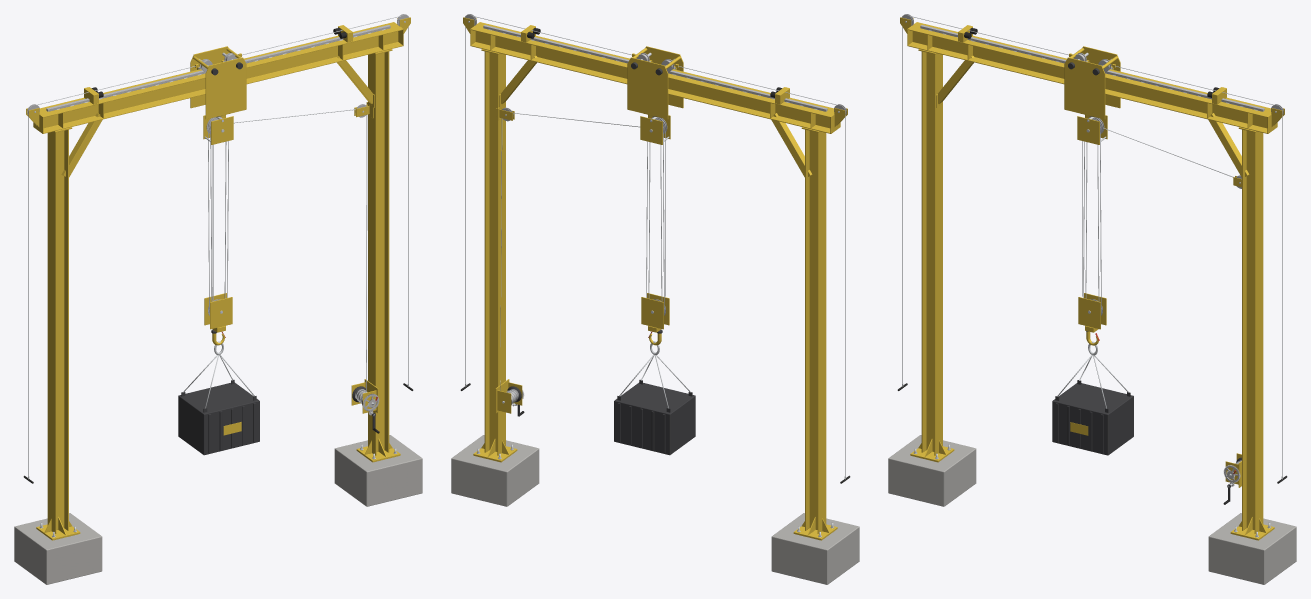
File: portique_reel.glb
3 views of the same model, side by side, from view 1: azimuth 30°, elevation 25°; view 2: azimuth 150°, elevation 25°; view 3: azimuth 330°, elevation 25° (orthographic).
Visible parts, largest first — view 1: R_Poteau_G, R_Poteau_D, R_Poutre, R_Massif_D, R_Massif_G, R_Caisse, R_Chariot_flasque_AV, R_Cable_levage, R_Rail, R_Jambe_G, R_Moufle_joue_-1, R_Chariot_flasque_AR (+3 smaller); view 2: R_Poteau_G, R_Poteau_D, R_Poutre, R_Caisse, R_Massif_D, R_Massif_G, R_Chariot_flasque_AR, R_Cable_levage, R_Rail, R_Jambe_G, R_Moufle_joue_1, R_Chariot_flasque_AV (+3 smaller); view 3: R_Poteau_D, R_Poteau_G, R_Poutre, R_Massif_D, R_Massif_G, R_Caisse, R_Chariot_flasque_AV, R_Cable_levage, R_Rail, R_Jambe_D, R_Moufle_joue_-1, R_Chariot_flasque_AR (+3 smaller).
Boxes of the visible parts, <box> form: R_Poteau_G: <box>47,129,68,533</box>; R_Poteau_D: <box>368,51,389,455</box>; R_Poutre: <box>39,22,402,133</box>; R_Massif_D: <box>334,435,422,506</box>; R_Massif_G: <box>14,513,102,584</box>; R_Caisse: <box>178,382,259,455</box>; R_Chariot_flasque_AV: <box>205,57,246,119</box>; R_Cable_levage: <box>208,109,367,403</box>; R_Rail: <box>46,25,390,111</box>; R_Jambe_G: <box>61,113,102,177</box>; R_Moufle_joue_-1: <box>210,297,232,329</box>; R_Chariot_flasque_AR: <box>190,46,229,108</box>; R_Poteau_G: <box>805,129,826,533</box>; R_Poteau_D: <box>484,51,505,455</box>; R_Poutre: <box>471,22,834,133</box>; R_Caisse: <box>614,382,695,455</box>; R_Massif_D: <box>451,435,539,506</box>; R_Massif_G: <box>771,513,859,584</box>; R_Chariot_flasque_AR: <box>627,57,668,119</box>; R_Cable_levage: <box>500,112,665,403</box>; R_Rail: <box>483,25,827,111</box>; R_Jambe_G: <box>771,113,812,177</box>; R_Moufle_joue_1: <box>641,297,663,329</box>; R_Chariot_flasque_AV: <box>644,46,683,108</box>; R_Poteau_D: <box>1242,129,1263,533</box>; R_Poteau_G: <box>921,51,942,455</box>; R_Poutre: <box>908,22,1271,133</box>; R_Massif_D: <box>1208,513,1296,584</box>; R_Massif_G: <box>888,435,976,506</box>; R_Caisse: <box>1052,383,1133,455</box>; R_Chariot_flasque_AV: <box>1064,57,1105,119</box>; R_Cable_levage: <box>1082,127,1241,464</box>; R_Rail: <box>920,25,1264,111</box>; R_Jambe_D: <box>1208,113,1249,177</box>; R_Moufle_joue_-1: <box>1078,297,1100,329</box>; R_Chariot_flasque_AR: <box>1081,46,1120,108</box>.
Bounding box in the file's own units: 6.8 × 8.02 × 1.
